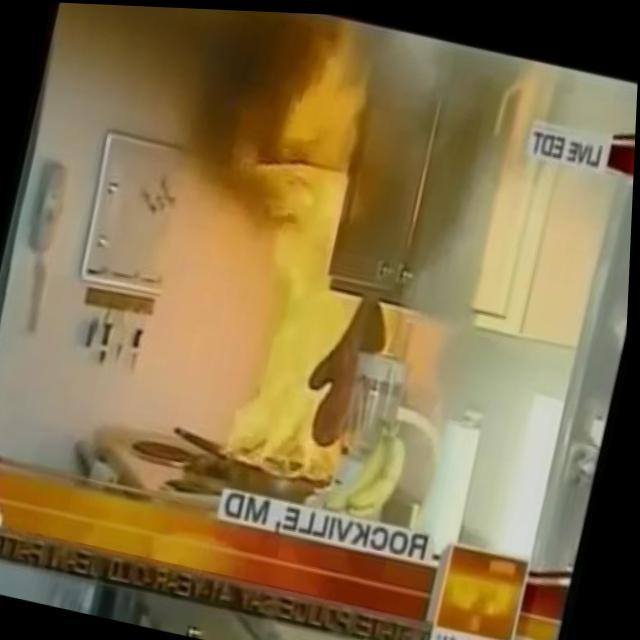fire: (205, 15, 431, 485)
